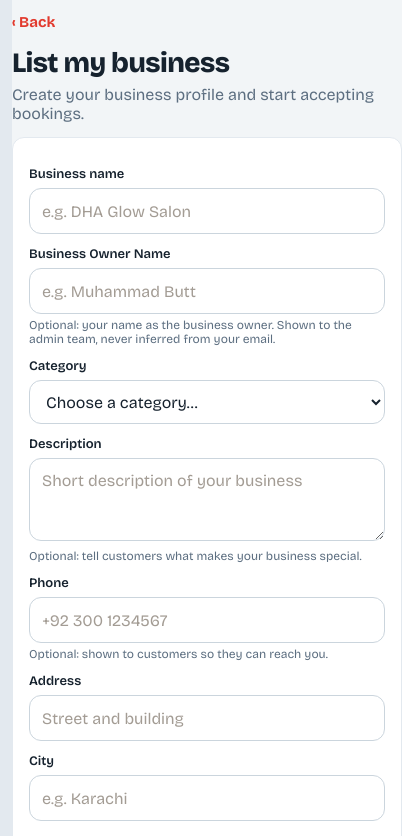
it: CreateBusinessScreen › maps a 403 API response to a friendly message
Expected: the text "Business name" is shown, [29,166,124,182]
In the field with placeholder "e.g. DHA Glow Salon": x=207, y=211 [29,188,385,234], type "Gulberg Grill"
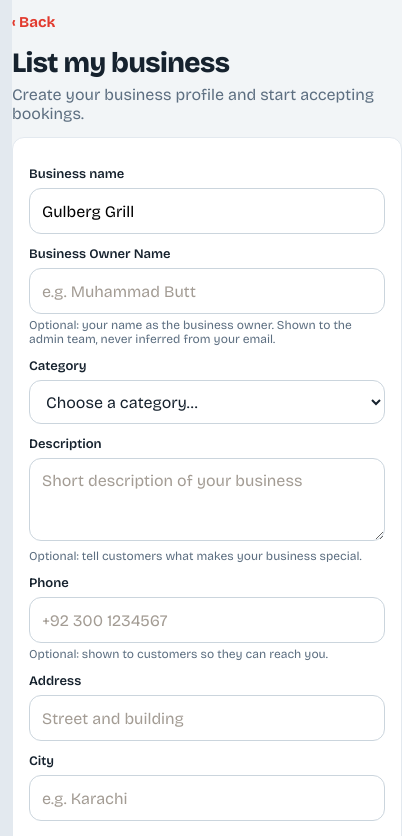
Select "Beauty & Spa" in the dropdown showing "Choose a category…": x=207, y=402 [29,380,385,424]
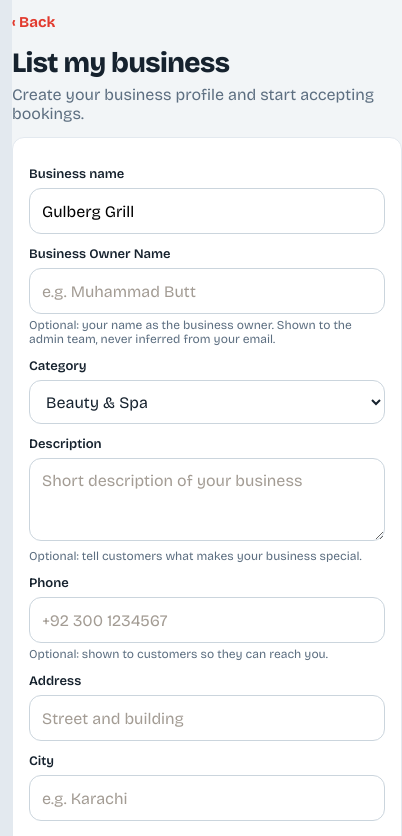
In the field with placeholder "Street and building": x=207, y=718 [29,695,385,741], type "12 Food Street"
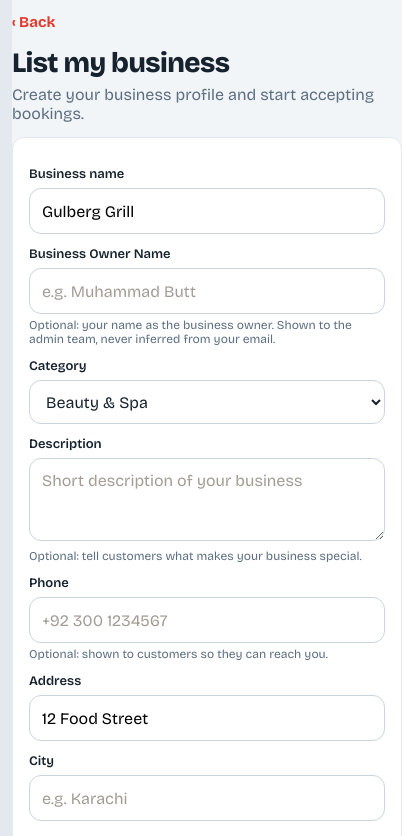
In the field with placeholder "e.g. Karachi": x=207, y=798 [29,775,385,821], type "Karachi"
(page scrolled)
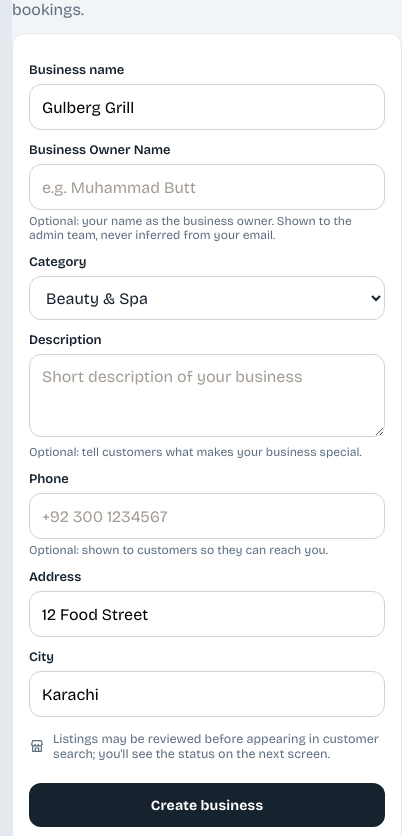
Click the button "Create business": x=207, y=805 [29,783,385,827]
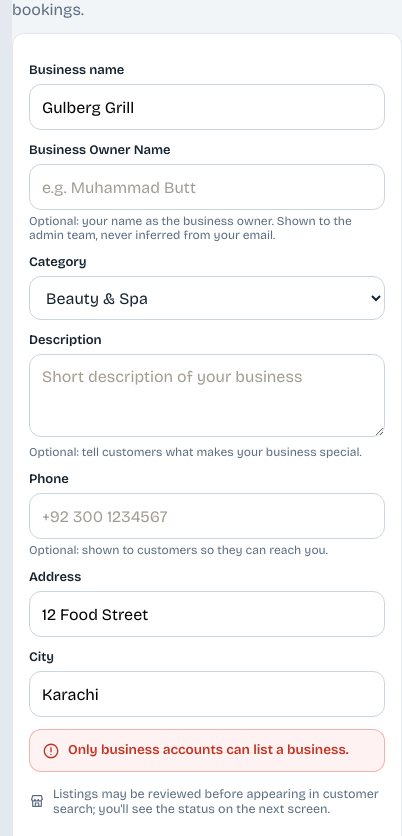
Expected: the text "Only business accounts can list a business." is shown, [68,741,349,758]
